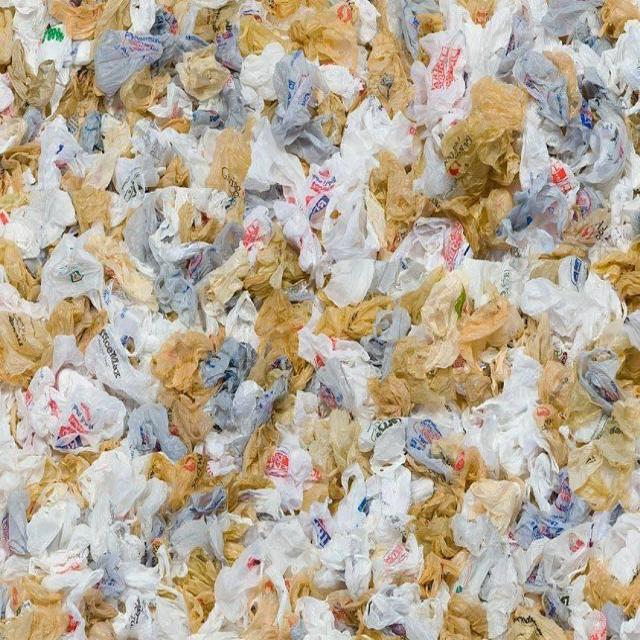heap: (1, 4, 640, 640)
plastic_bag: (249, 124, 307, 217), (40, 243, 102, 306)
